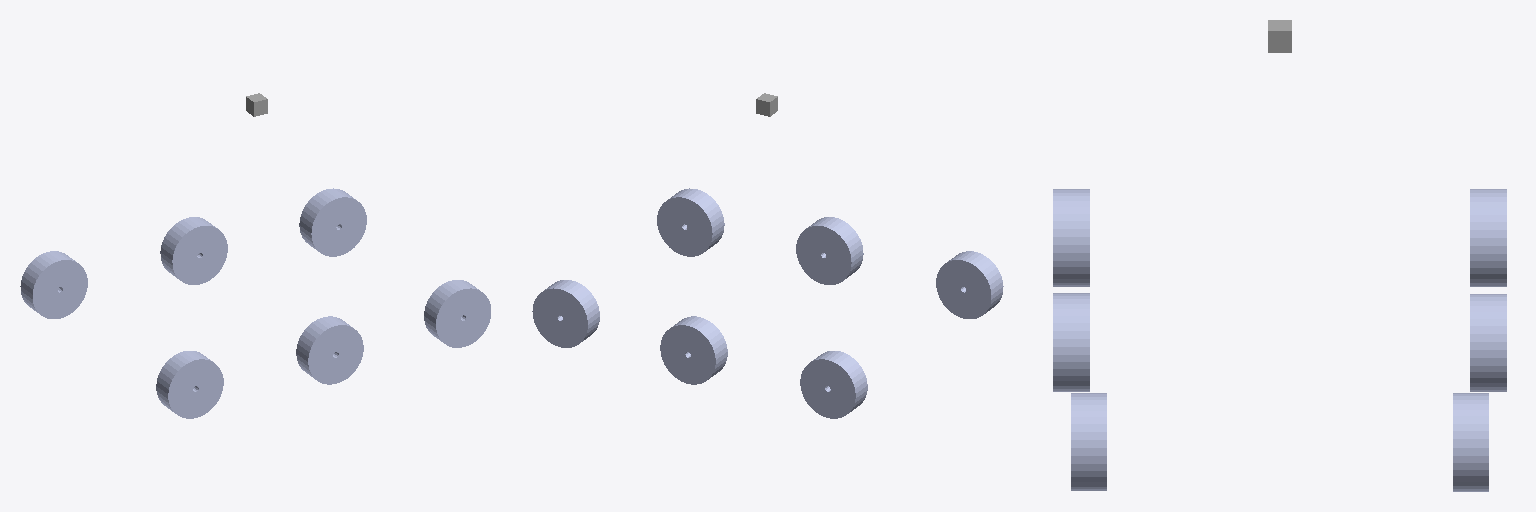
URDF robot description (SURover22_description_byerenna):
<?xml version="1.0" encoding="utf-8"?>
<!-- This URDF was automatically created by SolidWorks to URDF Exporter! Originally created by [author] ([email redacted]) 
     Commit Version: 1.6.0-1-g15f4949  Build Version: 1.6.7594.29634
     For more information, please see http://wiki.ros.org/sw_urdf_exporter -->
<robot
  name="SURover22_description_byerenna">
  <link
    name="base_link">
    <inertial>
      <origin
        xyz="0.00023486 -4.4786E-05 -0.14162"
        rpy="0 0 0" />
      <mass
        value="20.605" />
      <inertia
        ixx="0.454"
        ixy="1.9549E-09"
        ixz="0.00084823"
        iyy="1.0629"
        iyz="1.6096E-08"
        izz="1.4823" />
    </inertial>
    <visual>
      <origin
        xyz="0 0 0"
        rpy="0 0 0" />
      <geometry>
        <mesh
          filename="package://SURover22_description_byerenna/meshes/base_link.STL" />
      </geometry>
      <material
        name="">
        <color
          rgba="0.7451 0.7451 0.7451 1" />
      </material>
    </visual>
    <collision>
      <origin
        xyz="0 0 0"
        rpy="0 0 0" />
      <geometry>
        <mesh
          filename="package://SURover22_description_byerenna/meshes/base_link.STL" />
      </geometry>
    </collision>
  </link>
  <link
    name="R-front">
    <inertial>
      <origin
        xyz="8.8818E-16 -0.0375 1.6653E-16"
        rpy="0 0 0" />
      <mass
        value="2.3326" />
      <inertia
        ixx="0.0069833"
        ixy="-1.1181E-16"
        ixz="7.4623E-19"
        iyy="0.01178"
        iyz="-2.014E-17"
        izz="0.0069833" />
    </inertial>
    <visual>
      <origin
        xyz="0 0 0"
        rpy="0 0 0" />
      <geometry>
        <mesh
          filename="package://SURover22_description_byerenna/meshes/R-front.STL" />
      </geometry>
      <material
        name="">
        <color
          rgba="0.79216 0.81961 0.93333 1" />
      </material>
    </visual>
    <collision>
      <origin
        xyz="0 0 0"
        rpy="0 0 0" />
      <geometry>
        <mesh
          filename="package://SURover22_description_byerenna/meshes/R-front.STL" />
      </geometry>
    </collision>
  </link>
  <joint
    name="joint-R-f"
    type="continuous">
    <origin
      xyz="0.548838296645782 -0.351080000000064 -0.428087514508932"
      rpy="0 0 0" />
    <parent
      link="base_link" />
    <child
      link="R-front" />
    <axis
      xyz="0 1 0" />
  </joint>
  <link
    name="R-mid">
    <inertial>
      <origin
        xyz="-5.55111512312578E-17 -0.0375000000000623 -5.55111512312578E-17"
        rpy="0 0 0" />
      <mass
        value="2.33263254529042" />
      <inertia
        ixx="0.0069833186824632"
        ixy="-1.30245751233354E-19"
        ixz="-7.41033887658693E-19"
        iyy="0.0117797943537166"
        iyz="1.28115366404075E-19"
        izz="0.0069833186824632" />
    </inertial>
    <visual>
      <origin
        xyz="0 0 0"
        rpy="0 0 0" />
      <geometry>
        <mesh
          filename="package://SURover22_description_byerenna/meshes/R-mid.STL" />
      </geometry>
      <material
        name="">
        <color
          rgba="0.792156862745098 0.819607843137255 0.933333333333333 1" />
      </material>
    </visual>
    <collision>
      <origin
        xyz="0 0 0"
        rpy="0 0 0" />
      <geometry>
        <mesh
          filename="package://SURover22_description_byerenna/meshes/R-mid.STL" />
      </geometry>
    </collision>
  </link>
  <joint
    name="joint-R-m"
    type="continuous">
    <origin
      xyz="0.068456 -0.38608 -0.42809"
      rpy="0 0 0" />
    <parent
      link="base_link" />
    <child
      link="R-mid" />
    <axis
      xyz="0 1 0" />
  </joint>
  <link
    name="R-rear">
    <inertial>
      <origin
        xyz="6.3838E-15 -0.0375 -5.107E-15"
        rpy="0 0 0" />
      <mass
        value="2.3326" />
      <inertia
        ixx="0.0069833"
        ixy="-8.3231E-16"
        ixz="8.0388E-19"
        iyy="0.01178"
        iyz="6.734E-16"
        izz="0.0069833" />
    </inertial>
    <visual>
      <origin
        xyz="0 0 0"
        rpy="0 0 0" />
      <geometry>
        <mesh
          filename="package://SURover22_description_byerenna/meshes/R-rear.STL" />
      </geometry>
      <material
        name="">
        <color
          rgba="0.79216 0.81961 0.93333 1" />
      </material>
    </visual>
    <collision>
      <origin
        xyz="0 0 0"
        rpy="0 0 0" />
      <geometry>
        <mesh
          filename="package://SURover22_description_byerenna/meshes/R-rear.STL" />
      </geometry>
    </collision>
  </link>
  <joint
    name="joint-R-r"
    type="continuous">
    <origin
      xyz="-0.43561 -0.38608 -0.42822"
      rpy="0 0 0" />
    <parent
      link="base_link" />
    <child
      link="R-rear" />
    <axis
      xyz="0 1 0" />
  </joint>
  <link
    name="L-front">
    <inertial>
      <origin
        xyz="9.992E-16 -0.0375 0"
        rpy="0 0 0" />
      <mass
        value="2.3326" />
      <inertia
        ixx="0.0069833"
        ixy="-1.245E-16"
        ixz="-6.9538E-33"
        iyy="0.01178"
        iyz="2.6789E-19"
        izz="0.0069833" />
    </inertial>
    <visual>
      <origin
        xyz="0 0 0"
        rpy="0 0 0" />
      <geometry>
        <mesh
          filename="package://SURover22_description_byerenna/meshes/L-front.STL" />
      </geometry>
      <material
        name="">
        <color
          rgba="0.79216 0.81961 0.93333 1" />
      </material>
    </visual>
    <collision>
      <origin
        xyz="0 0 0"
        rpy="0 0 0" />
      <geometry>
        <mesh
          filename="package://SURover22_description_byerenna/meshes/L-front.STL" />
      </geometry>
    </collision>
  </link>
  <joint
    name="joint-L-f"
    type="continuous">
    <origin
      xyz="0.548812606572592 0.426079999999846 -0.428126101607028"
      rpy="0 0 0" />
    <parent
      link="base_link" />
    <child
      link="L-front" />
    <axis
      xyz="0 1 0" />
  </joint>
  <link
    name="L-mid">
    <inertial>
      <origin
        xyz="4.774E-15 -0.0375 -3.3307E-16"
        rpy="0 0 0" />
      <mass
        value="2.3326" />
      <inertia
        ixx="0.0069833"
        ixy="-6.1418E-16"
        ixz="-2.7012E-19"
        iyy="0.01178"
        iyz="5.0407E-17"
        izz="0.0069833" />
    </inertial>
    <visual>
      <origin
        xyz="0 0 0"
        rpy="0 0 0" />
      <geometry>
        <mesh
          filename="package://SURover22_description_byerenna/meshes/L-mid.STL" />
      </geometry>
      <material
        name="">
        <color
          rgba="0.79216 0.81961 0.93333 1" />
      </material>
    </visual>
    <collision>
      <origin
        xyz="0 0 0"
        rpy="0 0 0" />
      <geometry>
        <mesh
          filename="package://SURover22_description_byerenna/meshes/L-mid.STL" />
      </geometry>
    </collision>
  </link>
  <joint
    name="joint-L-m"
    type="continuous">
    <origin
      xyz="0.068429 0.46108 -0.42809"
      rpy="0 0 0" />
    <parent
      link="base_link" />
    <child
      link="L-mid" />
    <axis
      xyz="0 1 0" />
  </joint>
  <link
    name="L-rear">
    <inertial>
      <origin
        xyz="4.774E-15 -0.0375 -5.9952E-15"
        rpy="0 0 0" />
      <mass
        value="2.3326" />
      <inertia
        ixx="0.0069833"
        ixy="-6.2773E-16"
        ixz="-2.1099E-19"
        iyy="0.01178"
        iyz="7.7451E-16"
        izz="0.0069833" />
    </inertial>
    <visual>
      <origin
        xyz="0 0 0"
        rpy="0 0 0" />
      <geometry>
        <mesh
          filename="package://SURover22_description_byerenna/meshes/L-rear.STL" />
      </geometry>
      <material
        name="">
        <color
          rgba="0.79216 0.81961 0.93333 1" />
      </material>
    </visual>
    <collision>
      <origin
        xyz="0 0 0"
        rpy="0 0 0" />
      <geometry>
        <mesh
          filename="package://SURover22_description_byerenna/meshes/L-rear.STL" />
      </geometry>
    </collision>
  </link>
  <joint
    name="joint-L-r"
    type="continuous">
    <origin
      xyz="-0.43564 0.46108 -0.42817"
      rpy="0 0 0" />
    <parent
      link="base_link" />
    <child
      link="L-rear" />
    <axis
      xyz="0 1 0" />
  </joint>



<transmission name="left_front_trans" type="SimpleTransmission">
    <type>transmission_interface/SimpleTransmission</type>
    <actuator name="left_front_motor">
      <mechanicalReduction>1</mechanicalReduction>
    </actuator>
    <joint name="joint-L-f">
      <hardwareInterface>hardware_interface/VelocityJointInterface</hardwareInterface>
    </joint>
  </transmission>

  <transmission name="right_front_trans" type="SimpleTransmission">
    <type>transmission_interface/SimpleTransmission</type>
    <actuator name="right_front_motor">
      <mechanicalReduction>1</mechanicalReduction>
    </actuator>
    <joint name="joint-R-f">
      <hardwareInterface>hardware_interface/VelocityJointInterface</hardwareInterface>
    </joint>
  </transmission>

  <transmission name="left_rear_trans" type="SimpleTransmission">
    <type>transmission_interface/SimpleTransmission</type>
    <actuator name="left_rear_motor">
      <mechanicalReduction>1</mechanicalReduction>
    </actuator>
    <joint name="joint-L-r">
      <hardwareInterface>hardware_interface/VelocityJointInterface</hardwareInterface>
    </joint>
  </transmission>

  <transmission name="right_rear_trans" type="SimpleTransmission">
    <type>transmission_interface/SimpleTransmission</type>
    <actuator name="right_rear_motor">
      <mechanicalReduction>1</mechanicalReduction>
    </actuator>
    <joint name="joint-R-r">
      <hardwareInterface>hardware_interface/VelocityJointInterface</hardwareInterface>
    </joint>
  </transmission>

  <gazebo>
    <plugin name="diffdrive_plugin_6w" filename="libdiffdrive_plugin_6w.so">
      <alwaysOn>true</alwaysOn>
      <updateRate>20.0</updateRate>
      <frontLeftJoint>joint-L-f</frontLeftJoint>
      <frontRightJoint>joint-R-f</frontRightJoint>
      <midLeftJoint>joint-L-m</midLeftJoint>
      <midRightJoint>joint-R-m</midRightJoint>
      <rearLeftJoint>joint-L-r</rearLeftJoint>
      <rearRightJoint>joint-R-r</rearRightJoint>
      <wheelSeparation>0.2</wheelSeparation>
      <wheelDiameter>0.02</wheelDiameter>
      <torque>240</torque>
      <robotBaseFrame>base_link</robotBaseFrame>
      <commandTopic>cmd_vel</commandTopic>
      <odometryTopic>odom</odometryTopic>
      <odometryFrame>odom</odometryFrame>
    </plugin>
  </gazebo>

  <gazebo reference="imu_link">
    <sensor type="imu" name="imu">
      <always_on>true</always_on>
      <visualize>true</visualize>
    </sensor>
    <material>Gazebo/Grey</material>
  </gazebo>

  <gazebo>
    <plugin name="imu_plugin" filename="libgazebo_ros_imu.so">
      <alwaysOn>true</alwaysOn>
      <bodyName>base_link</bodyName>
      <frameName>imu_link</frameName>
      <topicName>imu</topicName>
      <serviceName>imu_service</serviceName>
      <gaussianNoise>0.0</gaussianNoise>
      <updateRate>200</updateRate>
      <imu>
        <noise>
          <type>gaussian</type>
          <rate>
            <mean>0.0</mean>
            <stddev>2e-4</stddev>
            <bias_mean>0.0000075</bias_mean>
            <bias_stddev>0.0000008</bias_stddev>
          </rate>
          <accel>
            <mean>0.0</mean>
            <stddev>1.7e-2</stddev>
            <bias_mean>0.1</bias_mean>
            <bias_stddev>0.001</bias_stddev>
          </accel>
        </noise>
      </imu>
    </plugin>
  </gazebo>

  <!-- Camera & Laser -->
  <joint name="camera_joint" type="fixed">
    <axis xyz="0 1 0" />
    <origin xyz="0.05 0 0.25" rpy="0 0 0"/>
    <parent link="base_link"/>
    <child link="camera_link"/>
  </joint>

  <link name="camera_link">
    <collision>
      <origin xyz="0 0 0" rpy="0 0 0"/>
      <geometry>
        <box size="0.05 0.05 0.05"/>
      </geometry>
    </collision>

    <visual>
      <origin xyz="0 0 0" rpy="0 0 0"/>
      <geometry>
    <box size="0.05 0.05 0.05"/>
      </geometry>
    </visual>

    <inertial>
      <mass value="1e-5" />
      <origin xyz="0 0 0" rpy="0 0 0"/>
      <inertia ixx="1e-6" ixy="0" ixz="0" iyy="1e-6" iyz="0" izz="1e-6" />
    </inertial>
  </link>

<!-- hokuyo -->
  <gazebo reference="camera_link">
    <sensor type="gpu_ray" name="head_hokuyo_sensor">
      <pose>0 0 0 0 0 0</pose>
      <visualize>true</visualize>
      <update_rate>40</update_rate>
      <ray>
        <scan>
          <horizontal>
            <samples>240</samples>
            <resolution>1</resolution>
            <min_angle>-1.0467</min_angle>
            <max_angle>1.0467</max_angle>
          </horizontal>
        </scan>
        <range>
          <min>0.10</min>
          <max>30.0</max>
          <resolution>0.01</resolution>
        </range>
        <noise>
          <type>gaussian</type>
          <mean>0.0</mean>
          <stddev>0.01</stddev>
        </noise>
      </ray>
      <plugin name="gazebo_ros_head_hokuyo_controller" filename="libgazebo_ros_gpu_laser.so">
        <topicName>laser/scan</topicName>
        <frameName>camera_link</frameName>
      </plugin>
    </sensor>
  </gazebo>

  <gazebo reference="camera_link">
    <sensor type="camera" name="camera1">
      <update_rate>30.0</update_rate>
      <camera name="head">
        <horizontal_fov>1.3962634</horizontal_fov>
        <image>
          <width>800</width>
          <height>800</height>
          <format>R8G8B8</format>
        </image>
        <clip>
          <near>0.02</near>
          <far>300</far>
        </clip>
        <noise>
          <type>gaussian</type>
          <mean>0.0</mean>
          <stddev>0.00</stddev>
        </noise>
      </camera>
      <plugin name="camera_controller" filename="libgazebo_ros_camera.so">
        <alwaysOn>true</alwaysOn>
        <updateRate>0.0</updateRate>
        <cameraName>rover/camera1</cameraName>
        <imageTopicName>image_raw</imageTopicName>
        <cameraInfoTopicName>camera_info</cameraInfoTopicName>
        <frameName>camera_link</frameName>
        <hackBaseline>0.07</hackBaseline>
        <distortionK1>0.0</distortionK1>
        <distortionK2>0.0</distortionK2>
        <distortionK3>0.0</distortionK3>
        <distortionT1>0.0</distortionT1>
        <distortionT2>0.0</distortionT2>
      </plugin>
    </sensor>
  </gazebo>

  <gazebo>
    <plugin name="p3d_base_controller" filename="libgazebo_ros_p3d.so">
      <alwaysOn>true</alwaysOn>
      <updateRate>50.0</updateRate>
      <bodyName>base_link</bodyName>
      <topicName>odom</topicName>
      <gaussianNoise>0.01</gaussianNoise>
      <frameName>map</frameName>
      <xyzOffsets>0 0 0</xyzOffsets>
      <rpyOffsets>0 0 0</rpyOffsets>
    </plugin>
  </gazebo>

<!--
  <gazebo reference="cam_link">
    <sensor type="depth" name="cam">
      <always_on>true</always_on>
      <update_rate>20.0</update_rate>
      <camera>
        <horizontal_fov>1.05</horizontal_fov>
        <image>
          <format>R8G8B8</format>
          <width>640</width>
          <height>480</height>
        </image>
        <clip>
          <near>0.05</near>
          <far>8.0</far>
        </clip>
      </camera>
      <plugin name="kinect_cam_controller" filename="libgazebo_ros_openni_kinect.so">
        <cameraName>cam</cameraName>
        <alwaysOn>true</alwaysOn>
        <updateRate>10</updateRate>
        <imageTopicName>rgb/image_raw</imageTopicName>
        <depthImageTopicName>depth/image_raw</depthImageTopicName>
        <pointCloudTopicName>depth/points</pointCloudTopicName>
        <cameraInfoTopicName>rgb/camera_info</cameraInfoTopicName>
        <depthImageCameraInfoTopicName>depth/camera_info</depthImageCameraInfoTopicName>
        <frameName>cam_frame_optical</frameName>
        <baseline>0.1</baseline>
        <distortion_k1>0.0</distortion_k1>
        <distortion_k2>0.0</distortion_k2>
        <distortion_k3>0.0</distortion_k3>
        <distortion_t1>0.0</distortion_t1>
        <distortion_t2>0.0</distortion_t2>
        <pointCloudCutoff>0.4</pointCloudCutoff>
      </plugin>
    </sensor>
  </gazebo> -->
</robot>

--- Render facts (derived) ---
3 views of the same robot in one strip: view 1: azimuth 30°, elevation 25°; view 2: azimuth 150°, elevation 25°; view 3: azimuth 270°, elevation 25° (orthographic).
Robot: SURover22_description_byerenna — 8 links, 7 joints (6 continuous, 1 fixed); root link base_link; default pose: all joints at 0.
Links seen in each view (by area): view 1: L-front, R-mid, R-rear, L-mid, L-rear, R-front; view 2: R-front, L-mid, R-mid, L-front, L-rear, R-rear; view 3: R-mid, R-rear, L-mid, L-rear, L-front, R-front, camera_link.
Boxes of the visible links, box(x1,y1,x2,y2) form: L-front: box(299, 188, 366, 256); R-mid: box(296, 316, 363, 384); R-rear: box(156, 351, 223, 418); L-mid: box(160, 217, 227, 284); L-rear: box(20, 251, 87, 318); R-front: box(424, 280, 490, 347); R-front: box(657, 188, 724, 256); L-mid: box(660, 316, 727, 384); R-mid: box(796, 217, 863, 284); L-front: box(532, 280, 599, 347); L-rear: box(800, 351, 867, 418); R-rear: box(936, 251, 1003, 318); R-mid: box(1053, 293, 1089, 391); R-rear: box(1053, 189, 1089, 286); L-mid: box(1470, 294, 1506, 391); L-rear: box(1470, 189, 1506, 286); L-front: box(1453, 393, 1488, 491); R-front: box(1071, 393, 1106, 490); camera_link: box(1268, 20, 1291, 52).
Bounding box of the posed robot: 1.18 × 0.9222 × 0.8031 m (x, y, z).
6 mesh visuals loaded from 7 distinct referenced files (6 binary STL); not drawn: 1 (reference not matched to a file when rendering).
